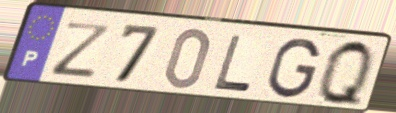0: (161, 27, 213, 92)
7: (112, 22, 166, 86)
G: (265, 36, 322, 100)
L: (211, 33, 255, 94)
Q: (316, 37, 376, 111)
Z: (49, 19, 116, 80)
